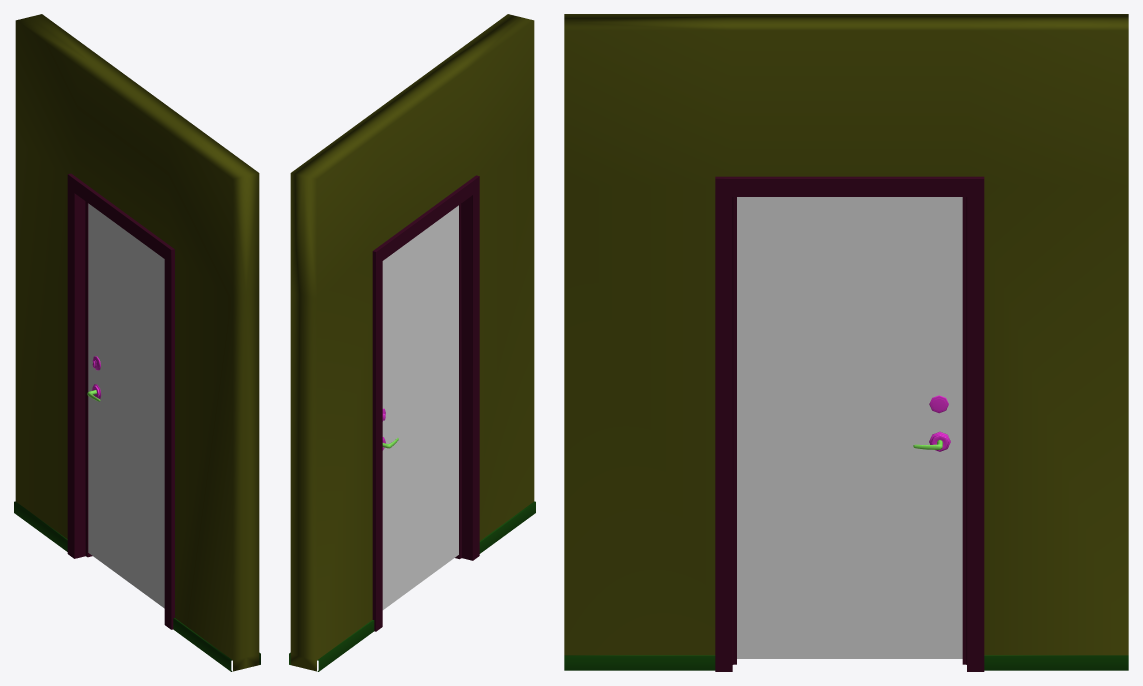
Rendered from Lockerroomtoiletdoor.fbx.
The picture shows the model from 3 angles, left to right: view 1: azimuth 30°, elevation 25°; view 2: azimuth 150°, elevation 25°; view 3: azimuth 270°, elevation 25°; orthographic projection. The views are drawn at different scales.
Parts seen in each view (by area): view 1: Cube.037, Cube.040; view 2: Cube.037, Cube.040; view 3: Cube.037, Cube.040.
Boxes of the visible parts, <box> form: Cube.037: <box>14,14,260,671</box>; Cube.040: <box>88,203,164,608</box>; Cube.037: <box>289,14,535,671</box>; Cube.040: <box>382,205,458,609</box>; Cube.037: <box>564,14,1128,671</box>; Cube.040: <box>737,197,962,658</box>.
Bounding box in the file's own units: 17.73 × 250 × 200.
